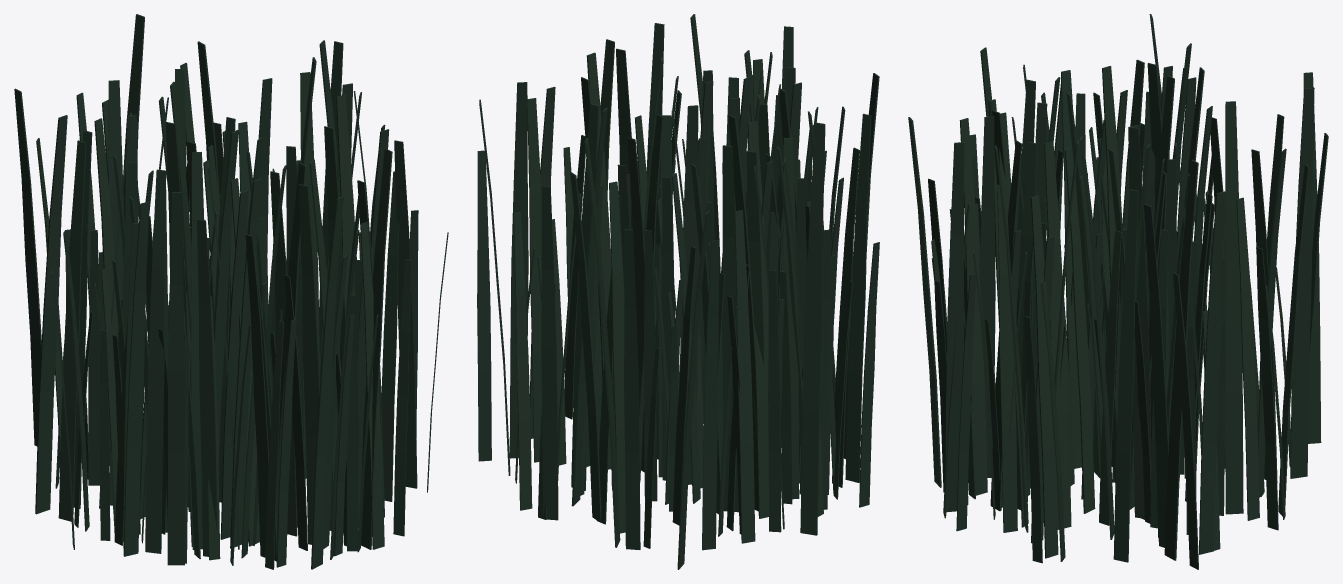
File: seegras_patch.FBX
The picture shows the model from 3 angles, left to right: view 1: azimuth 30°, elevation 25°; view 2: azimuth 150°, elevation 25°; view 3: azimuth 270°, elevation 25°; orthographic projection.
Visible parts, largest first — view 1: seegras_patch_001; view 2: seegras_patch_001; view 3: seegras_patch_001.
Part boxes in pixels (x1=…): seegras_patch_001: x1=14, y1=14, x2=448, y2=569; seegras_patch_001: x1=477, y1=14, x2=879, y2=569; seegras_patch_001: x1=908, y1=14, x2=1328, y2=569.
Bounding box in the file's own units: 0.4418 × 0.4694 × 0.441.
